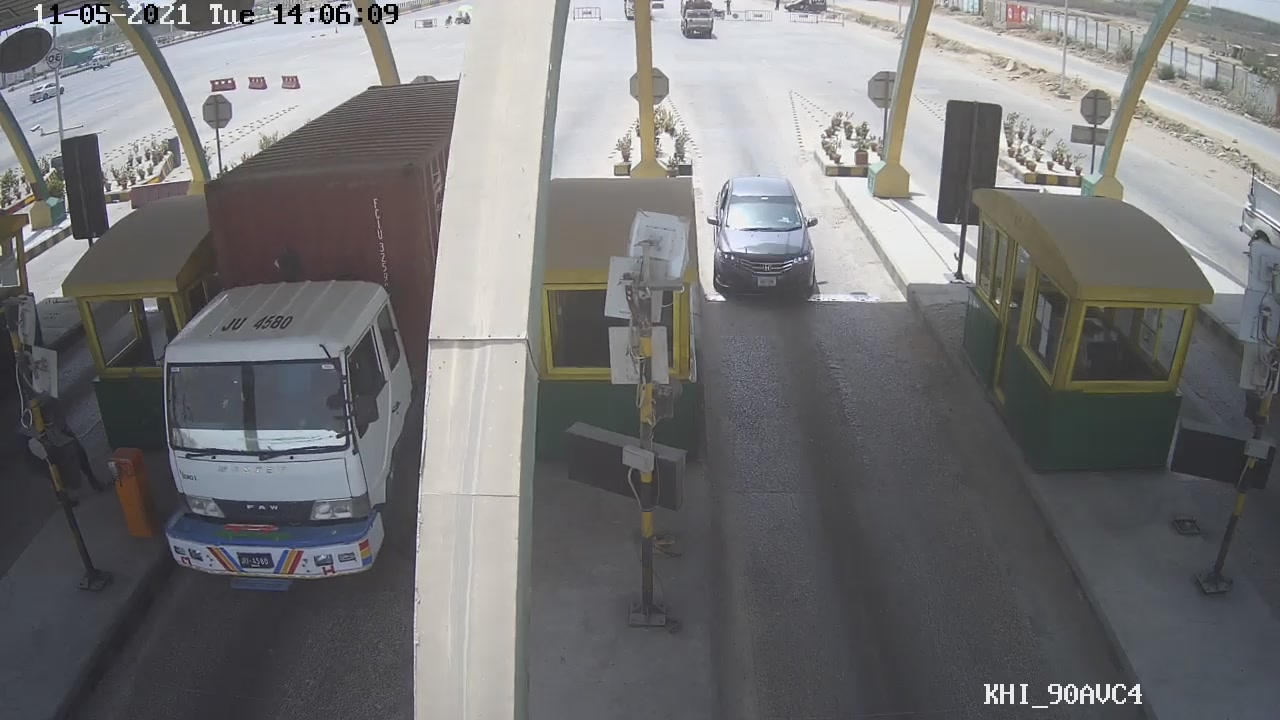F1: (694, 172, 820, 309)
